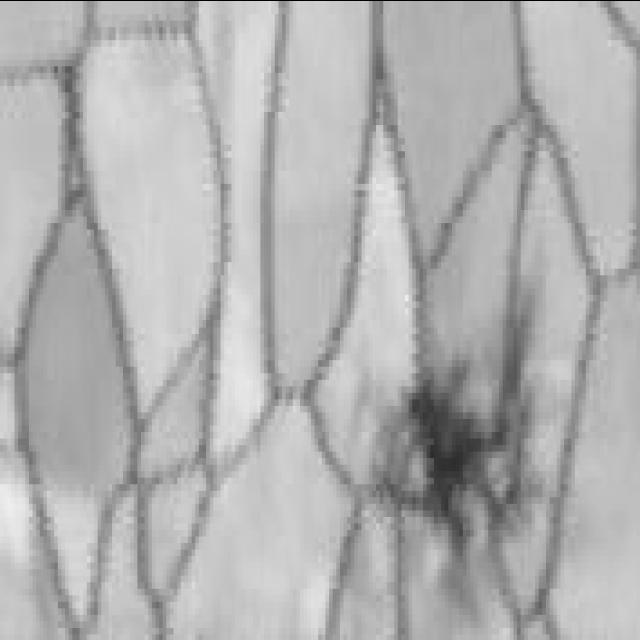good_void: (366, 275, 542, 577)
